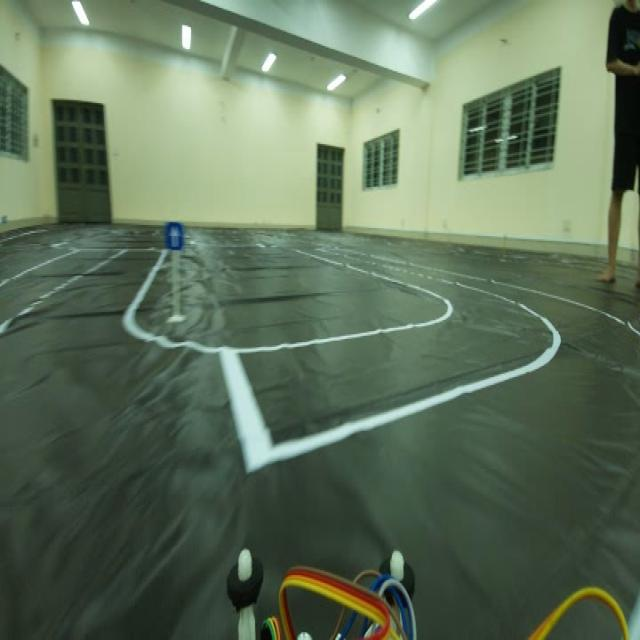onewayroad: (161, 222, 189, 256)
